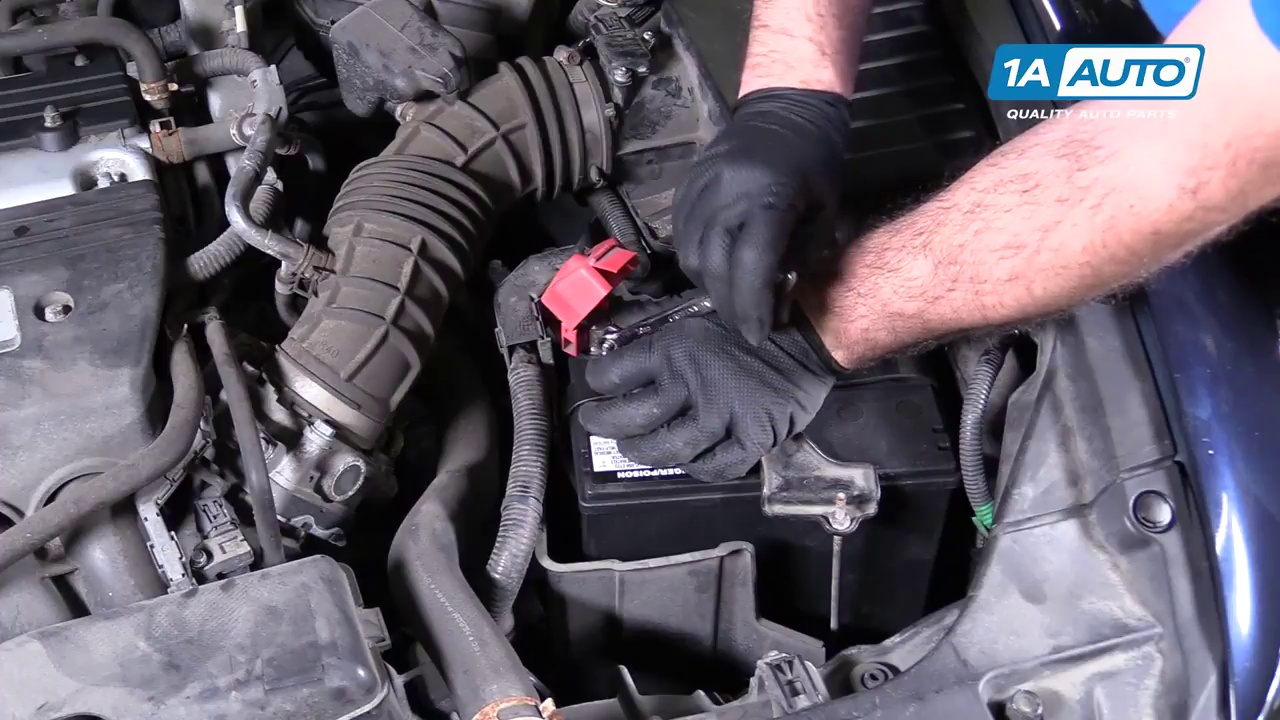battery: (557, 289, 965, 489)
pos_touched: (542, 239, 683, 431)
